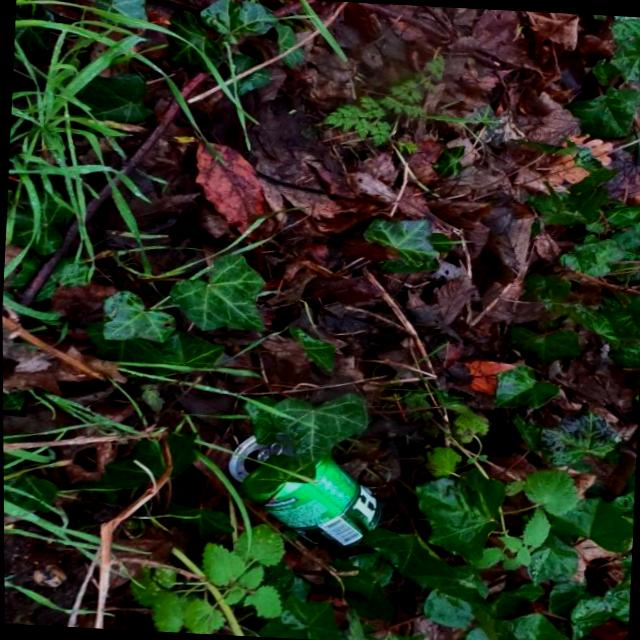Can-Metal: (221, 431, 388, 554)
